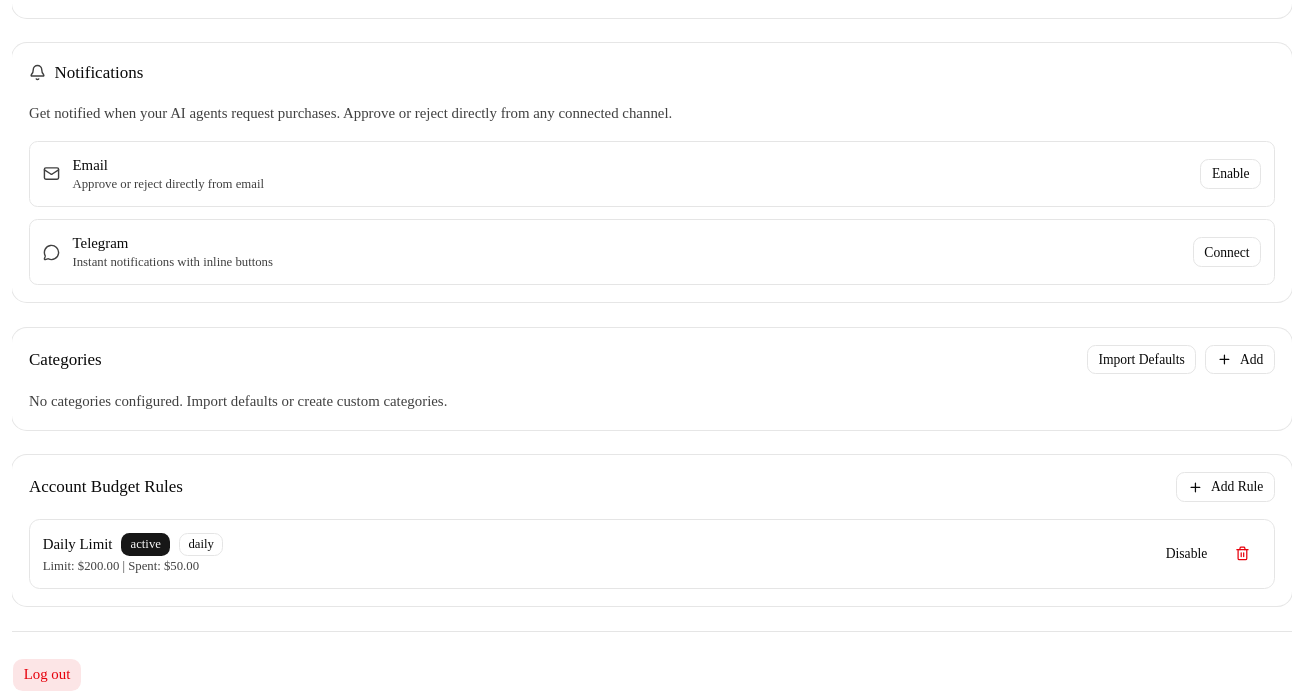
SettingsPage › budget rules › shows Add Rule button that toggles form
(page scrolled)
Click the button "Add Rule": (1225, 487) [1176,472,1275,502]
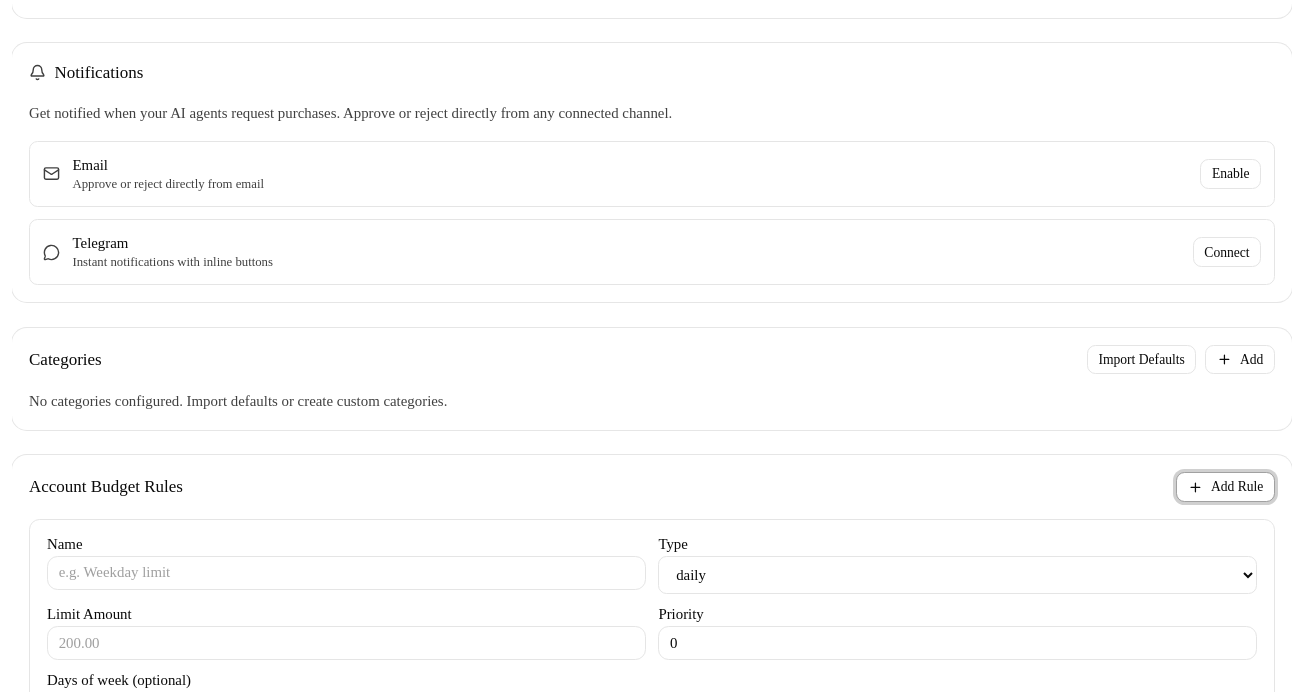
Result: the field with placeholder "e.g. Weekday limit" is shown at [47,556,646,590]
Result: the number field with placeholder "200.00" is shown at [47,626,646,660]
